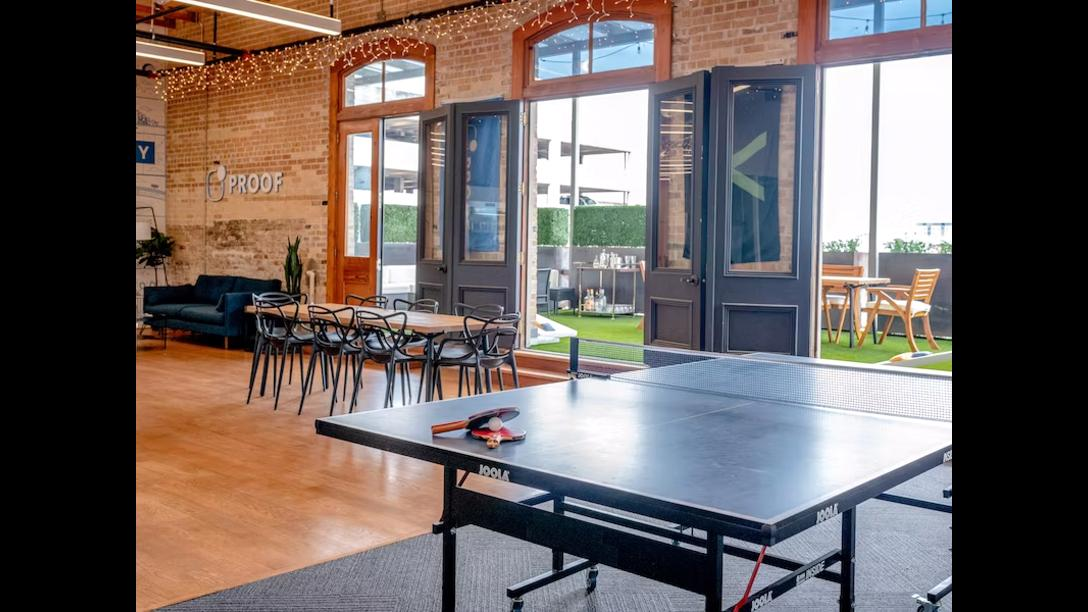Table-Tennis-Ball: (490, 418, 502, 430)
